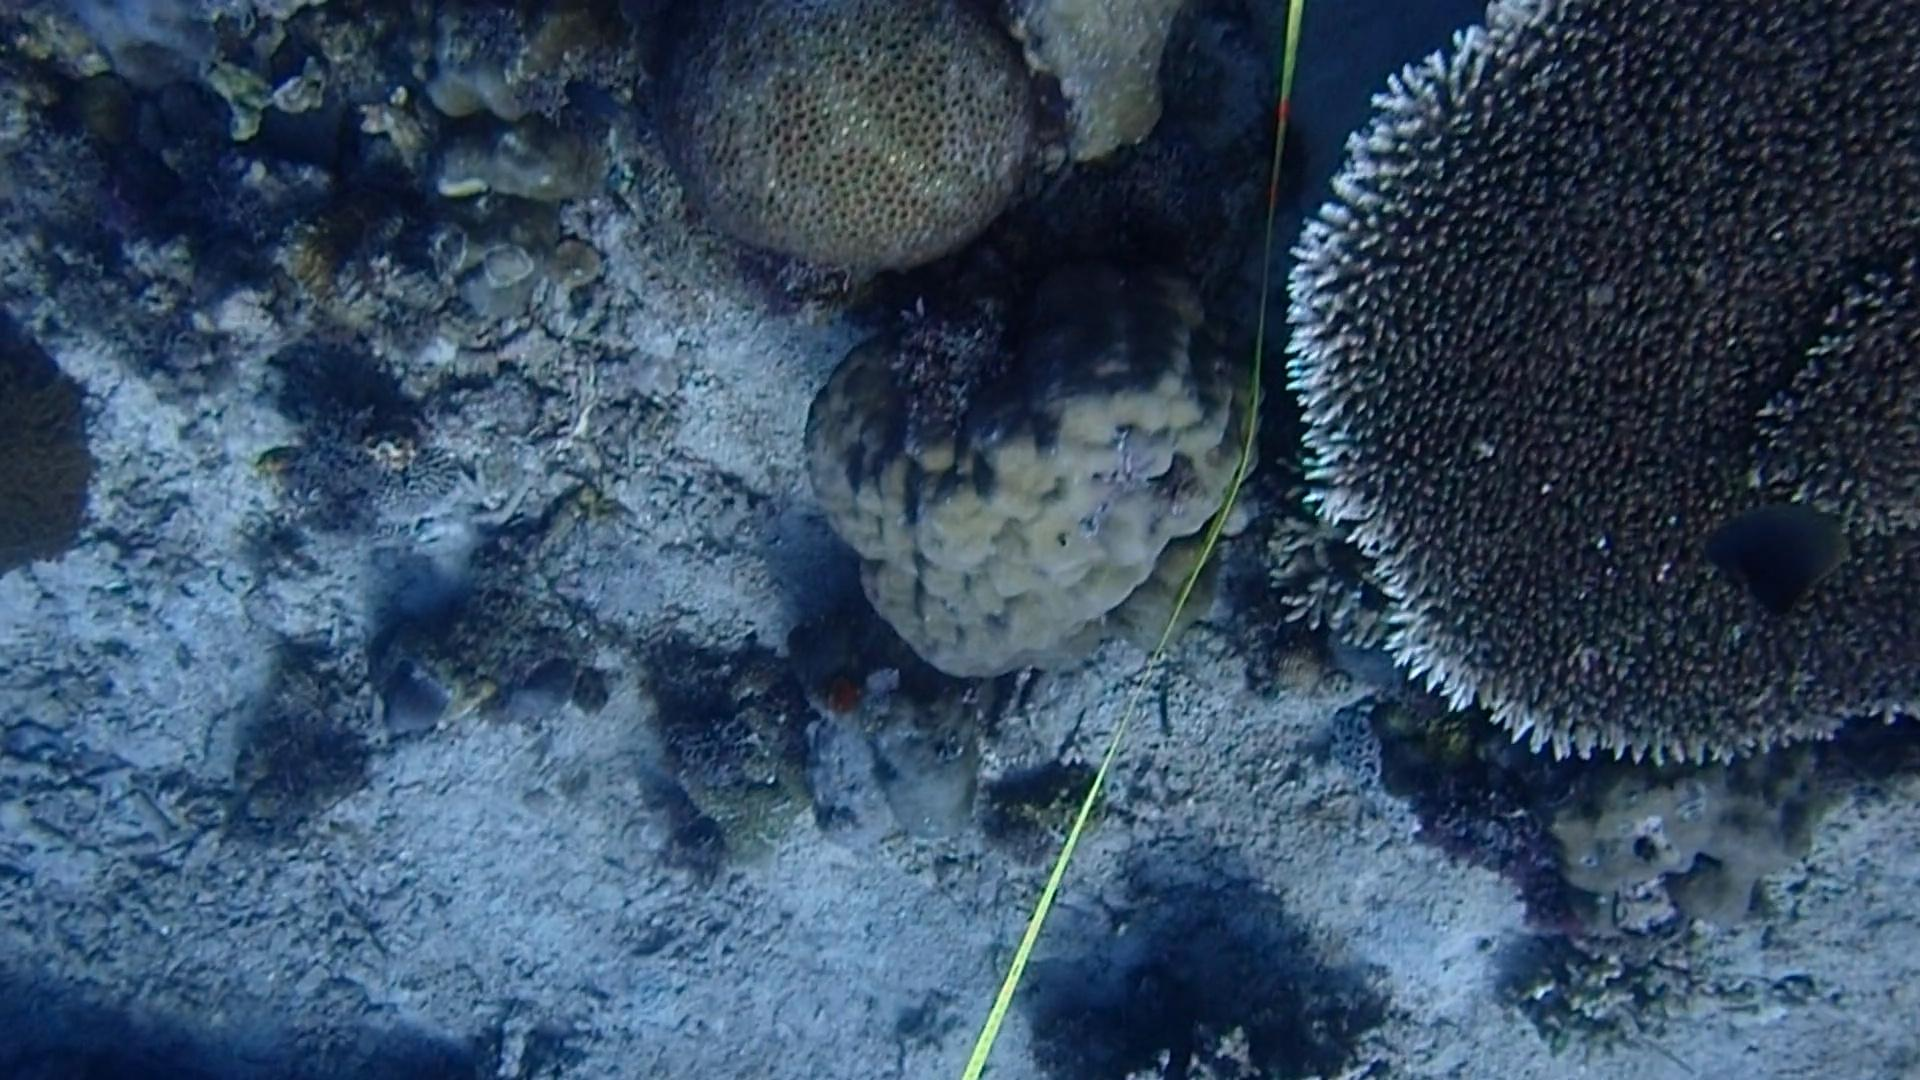Dark Blue Dory: (1704, 493, 1858, 632)
Light Fish: (559, 65, 624, 132)
